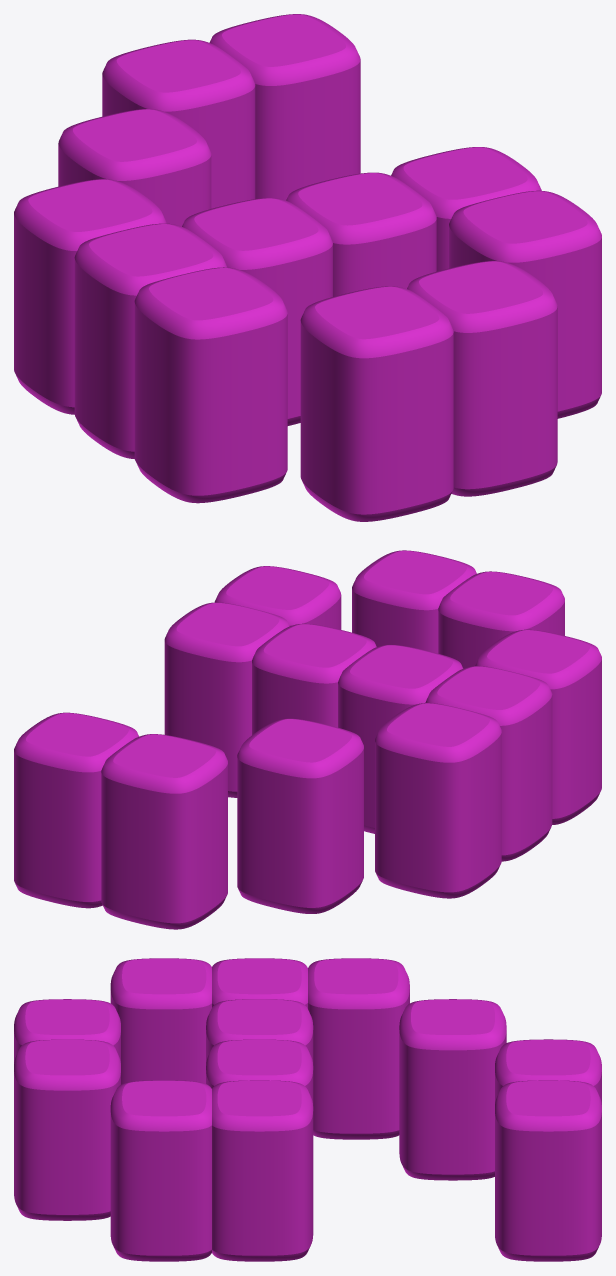
The model's file is Number_9.fbx.
3 views of the same model, one above another, from view 1: azimuth 30°, elevation 25°; view 2: azimuth 150°, elevation 25°; view 3: azimuth 270°, elevation 25° (orthographic). The views are drawn at different scales.
Visible parts, largest first — view 1: Number_9; view 2: Number_9; view 3: Number_9.
Part boxes in pixels (bbox=[...]): Number_9: bbox=[14, 14, 601, 521]; Number_9: bbox=[14, 550, 601, 929]; Number_9: bbox=[14, 958, 601, 1261].
Bounding box in the file's own units: 0.3465 × 0.14 × 0.5146.
